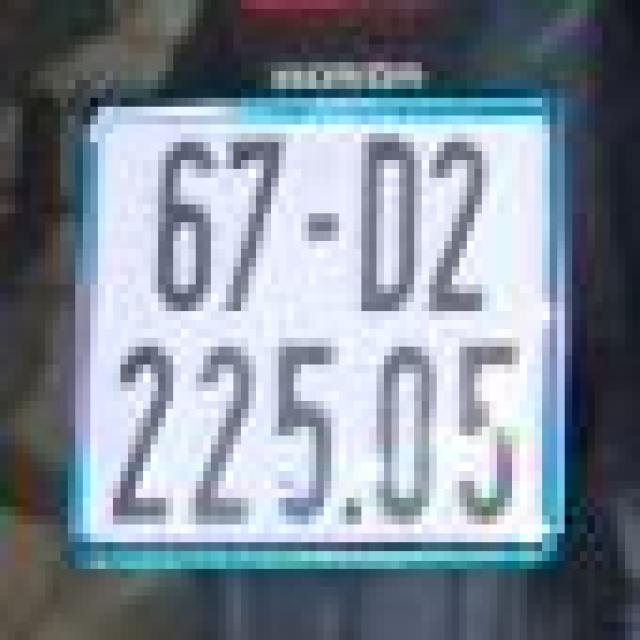0: (369, 324, 437, 538)
2: (98, 338, 188, 533), (184, 316, 260, 546), (429, 125, 512, 311)
5: (441, 324, 554, 538), (256, 329, 339, 533)
6: (150, 133, 226, 329)
7: (222, 120, 298, 324)
D: (342, 111, 440, 333)
